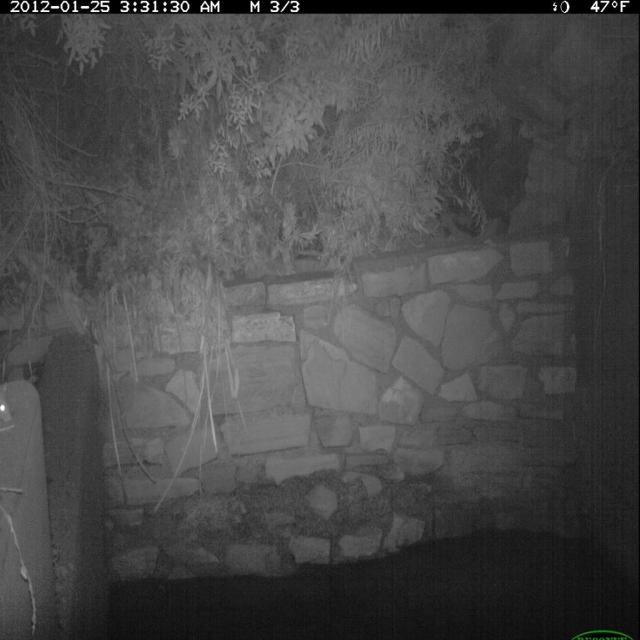rodent: (1, 379, 17, 427)
